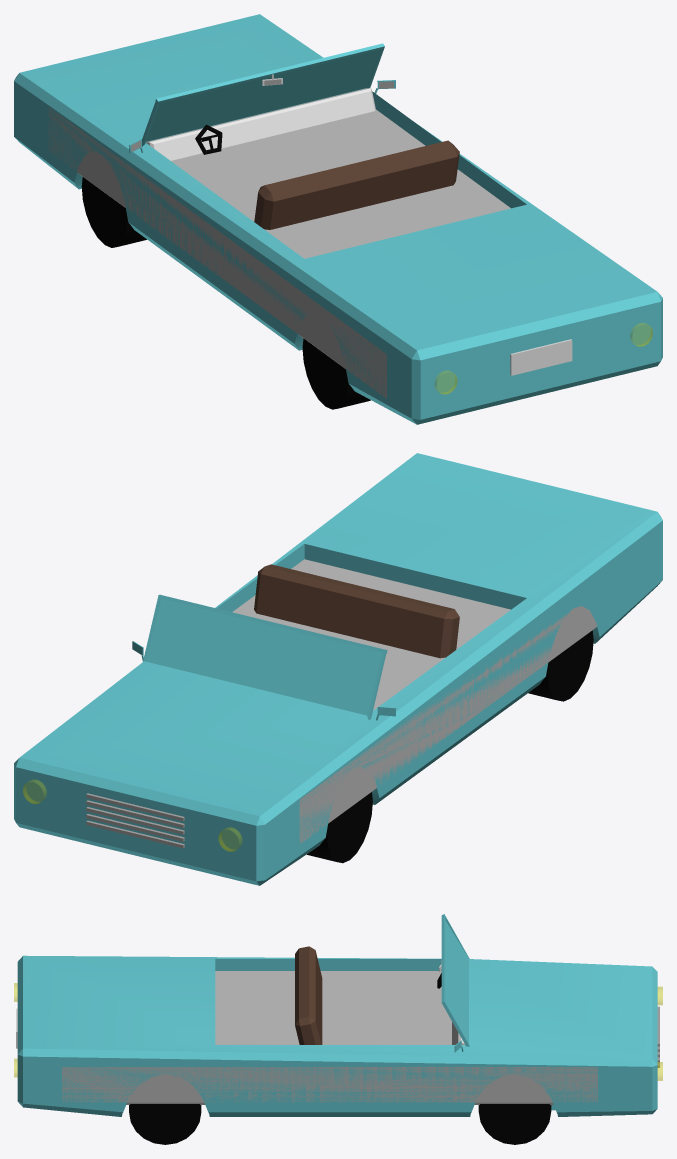
File: CarModelB.fbx
3 renders of one model, top to bottom at view 1: azimuth 30°, elevation 25°; view 2: azimuth 150°, elevation 25°; view 3: azimuth 270°, elevation 25°, orthographic. The views are drawn at different scales.
Visible parts, largest first — view 1: polySurface1, pCube1, pCube10, pCube4, pCube11, pCylinder6, pCylinder5, pCube8, pCube7; view 2: polySurface1, pCube1, pCube4, pCube10, pCylinder6, pCylinder5, pCube7; view 3: polySurface1, pCube1, pCube10, pCylinder7, pCylinder8, pCube4, pCube7.
Part boxes in pixels (box(x1,y1,x2,y2)): polySurface1: box(14, 14, 662, 424); pCube1: box(48, 107, 510, 398); pCube10: box(254, 140, 459, 229); pCube4: box(146, 49, 381, 141); pCube11: box(146, 88, 375, 160); pCylinder6: box(302, 338, 370, 409); pCylinder5: box(81, 177, 146, 247); pCube8: box(510, 339, 572, 375); pCube7: box(155, 43, 384, 103); polySurface1: box(14, 453, 662, 885); pCube1: box(232, 559, 596, 843); pCube4: box(145, 599, 382, 716); pCube10: box(254, 564, 459, 658); pCylinder6: box(528, 630, 593, 701); pCylinder5: box(307, 792, 372, 863); pCube7: box(159, 594, 387, 653); polySurface1: box(17, 955, 657, 1116); pCube1: box(62, 971, 597, 1104); pCube10: box(295, 946, 322, 1044); pCylinder7: box(478, 1104, 551, 1144); pCylinder8: box(129, 1104, 201, 1144); pCube4: box(445, 921, 468, 1043); pCube7: box(441, 915, 445, 1002).
Bounding box in the file's own units: 13.13 × 8.35 × 35.19.
